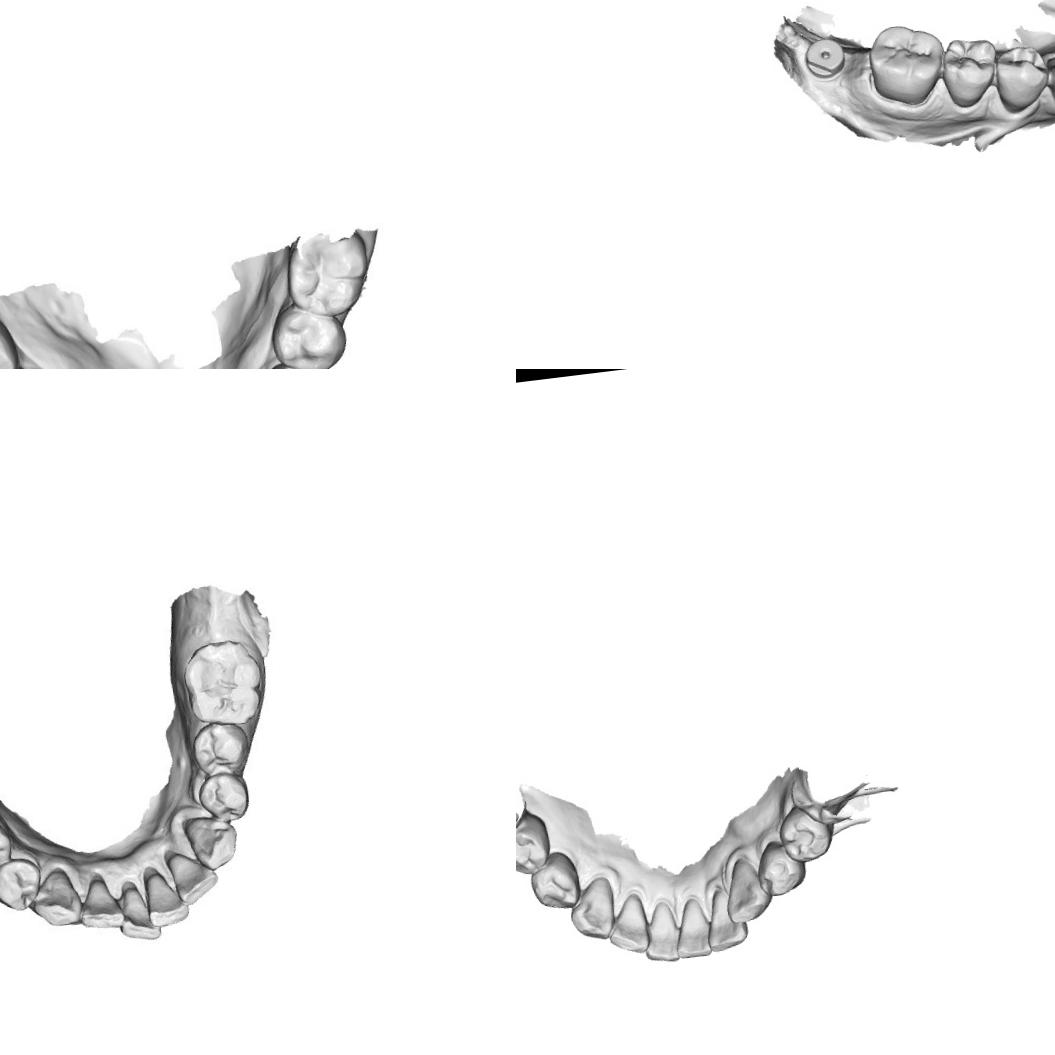canine: (24, 866, 86, 933), (180, 812, 244, 875), (564, 873, 620, 945), (720, 854, 774, 926)
implant: (801, 34, 849, 83)
incisor: (700, 882, 751, 955), (166, 846, 221, 908), (603, 890, 653, 958), (114, 882, 164, 945), (75, 876, 127, 934), (638, 897, 682, 965), (670, 895, 714, 962), (143, 870, 192, 928)
molar: (284, 222, 378, 323), (177, 634, 271, 732), (862, 17, 952, 112)
premolar: (271, 296, 352, 369), (936, 32, 1004, 112), (991, 41, 1054, 115), (774, 800, 837, 866), (188, 719, 255, 780), (526, 848, 584, 916), (752, 838, 809, 900), (196, 768, 253, 826), (0, 854, 46, 915), (516, 808, 555, 878), (0, 815, 16, 882)
